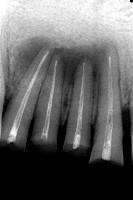Furcation Involvement: (51, 39, 115, 85), (13, 36, 52, 78)
